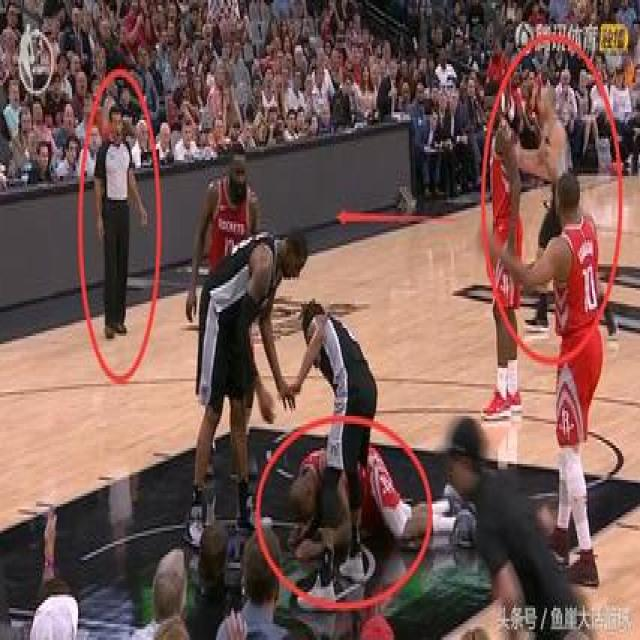10-: (0, 0, 639, 635)
down: (278, 424, 450, 573)
